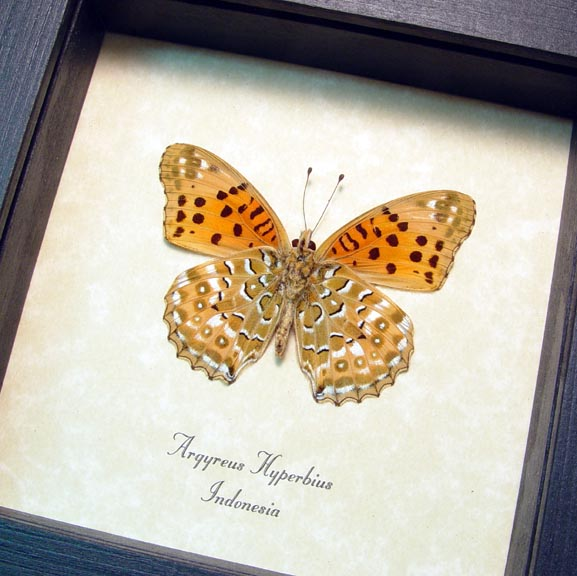Argyreus hyperbius: (155, 131, 482, 403)
butterfly: (157, 133, 484, 405)
